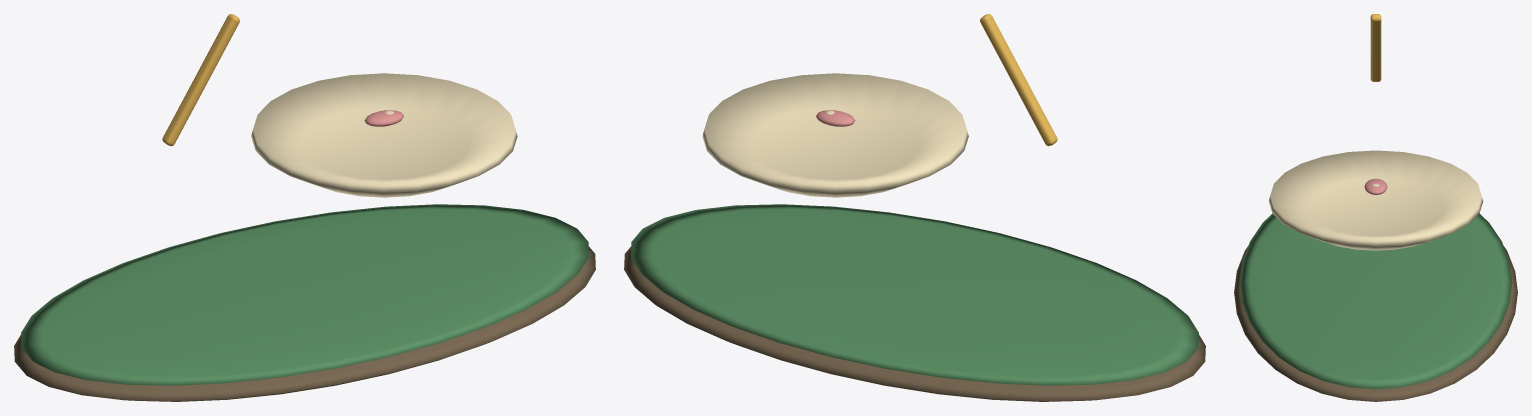
The model's file is blood-dish.glb.
The picture shows the model from 3 angles, left to right: view 1: azimuth 30°, elevation 25°; view 2: azimuth 150°, elevation 25°; view 3: azimuth 270°, elevation 25°; orthographic projection. The views are drawn at different scales.
Visible parts, largest first — view 1: blood-dish_surface_01, blood-dish_surface_03, blood-dish_surface_00, blood-dish_surface_02; view 2: blood-dish_surface_01, blood-dish_surface_03, blood-dish_surface_00, blood-dish_surface_02; view 3: blood-dish_surface_01, blood-dish_surface_03, blood-dish_surface_00, blood-dish_surface_02, blood-dish_surface_04.
Part boxes in pixels (x1,y1,x2,y2): blood-dish_surface_01: (21, 204, 588, 385); blood-dish_surface_03: (251, 73, 517, 197); blood-dish_surface_00: (14, 246, 595, 401); blood-dish_surface_02: (162, 14, 239, 146); blood-dish_surface_01: (631, 204, 1198, 385); blood-dish_surface_03: (702, 73, 968, 197); blood-dish_surface_00: (624, 246, 1205, 401); blood-dish_surface_02: (980, 14, 1057, 146); blood-dish_surface_01: (1239, 213, 1512, 389); blood-dish_surface_03: (1268, 150, 1483, 250); blood-dish_surface_00: (1234, 246, 1517, 401); blood-dish_surface_02: (1370, 14, 1381, 81); blood-dish_surface_04: (1364, 178, 1387, 194).
Bounding box in the file's own units: 4.56 × 2.56 × 2.5.
